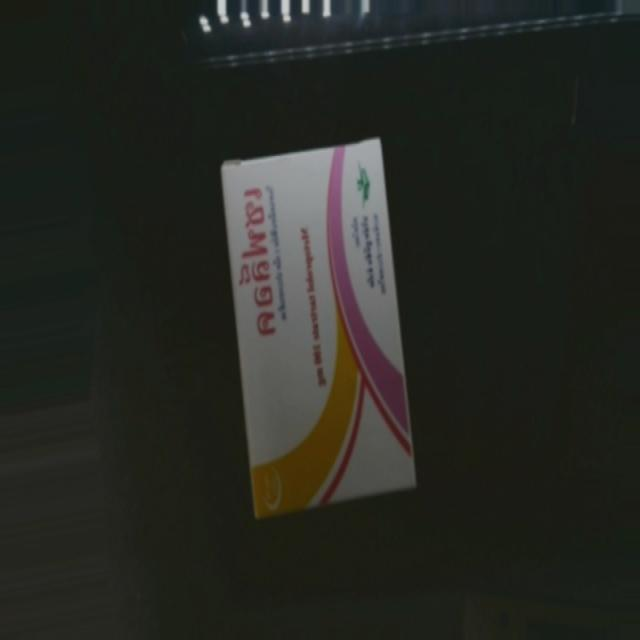sefloc: (221, 137, 416, 515)
